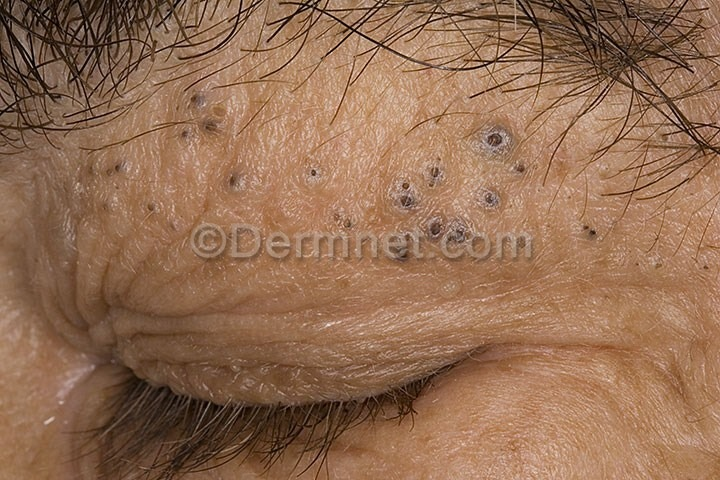Melasma: (392, 115, 533, 230), (166, 83, 260, 216), (76, 143, 163, 231), (289, 142, 368, 229), (578, 202, 626, 262)
